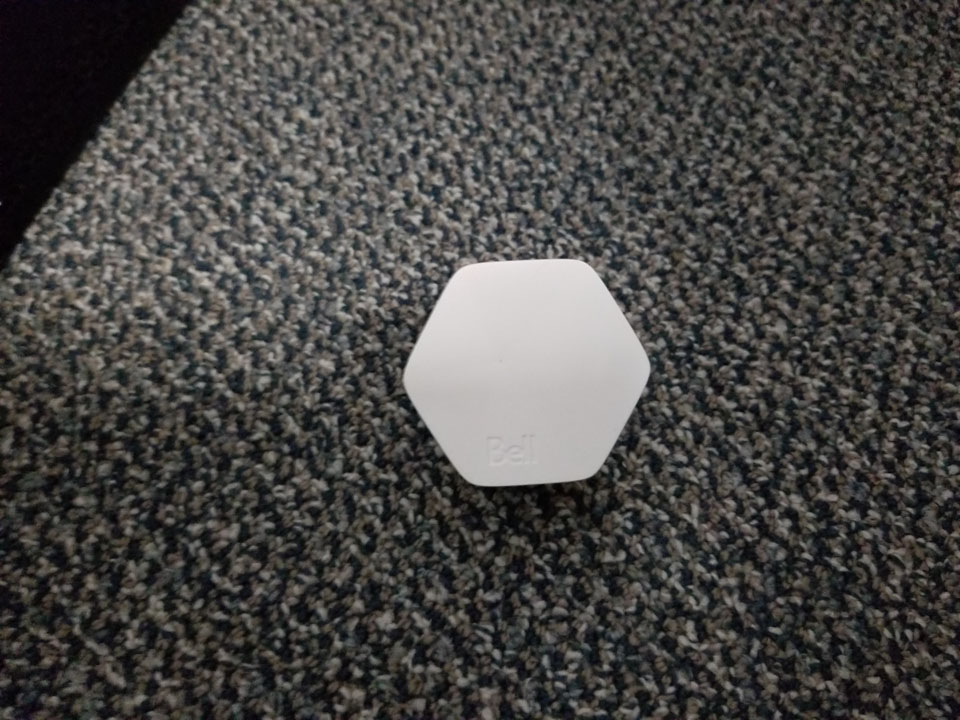pod: (398, 250, 656, 492)
